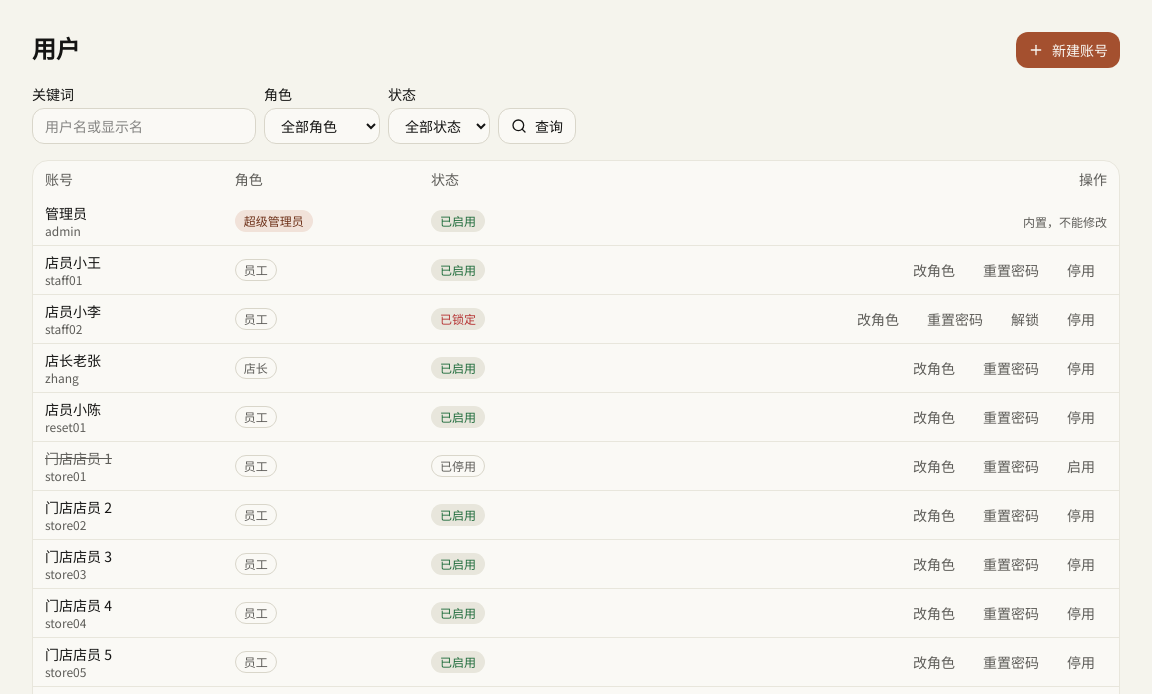
用户管理页 › 在弹窗里重置密码；锁定的账号可以解锁
The image size is (1152, 694).
Click the button with aria-label "重置密码 店员小王": (1011, 270) [971,252,1051,288]
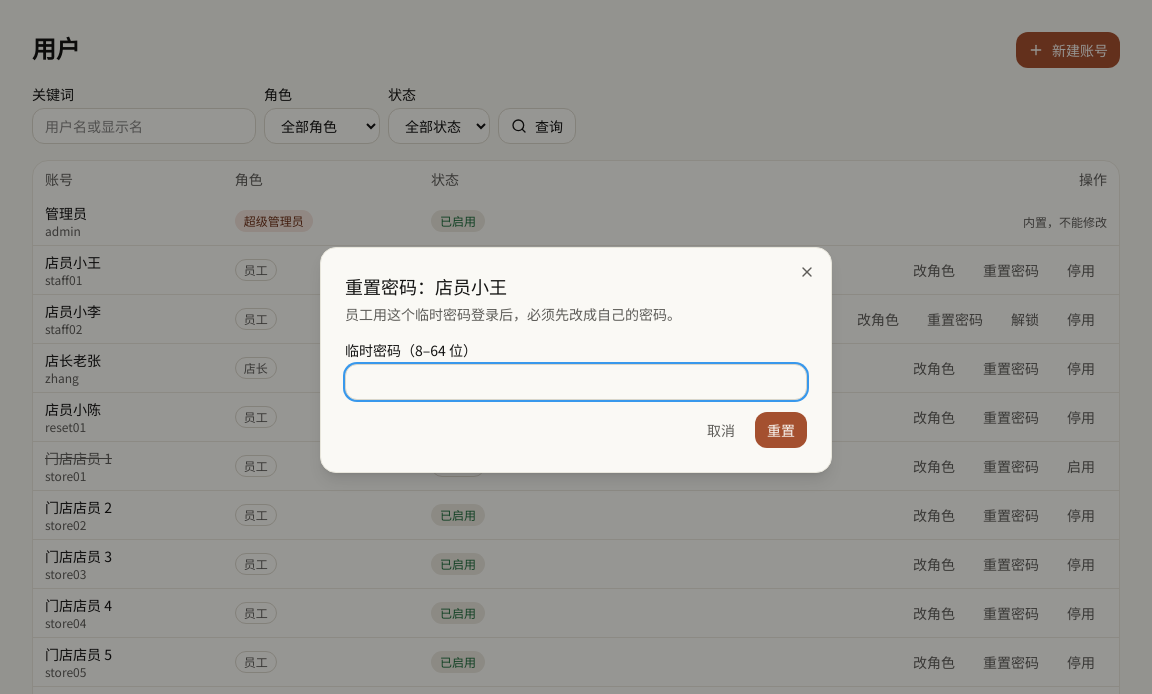
In the password field labelled "临时密码（8–64 位）": (576, 382) [345,364,807,400], type "temp-pass-1"
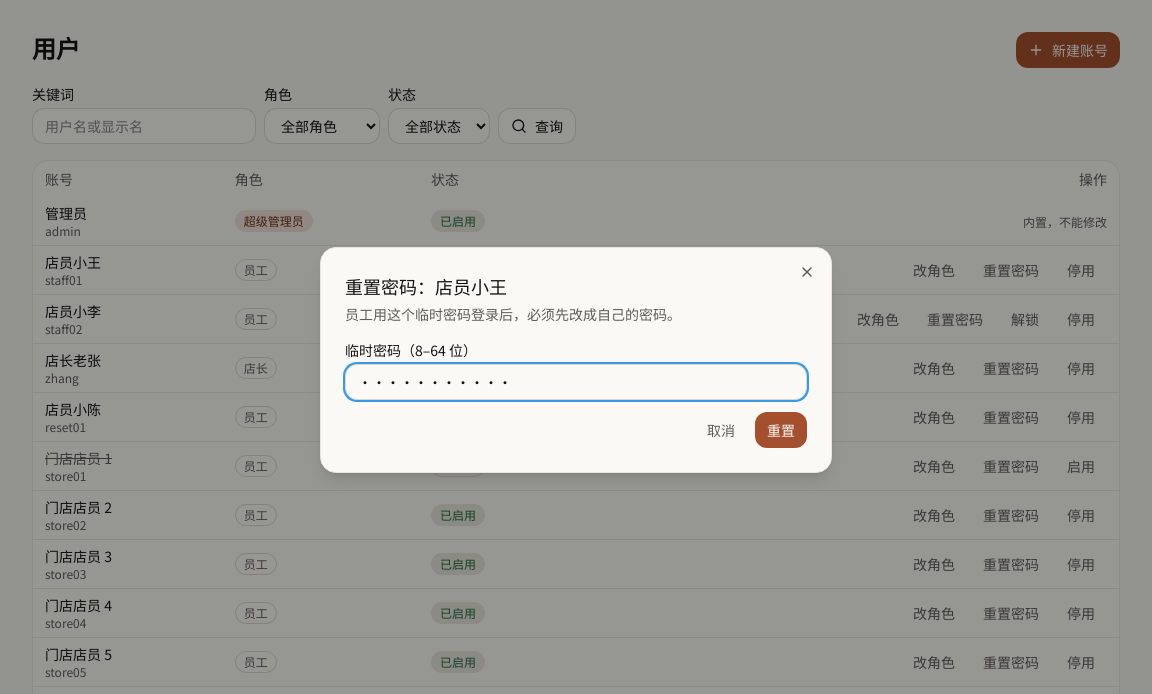
Click the button "重置": (781, 430) [755,412,807,448]
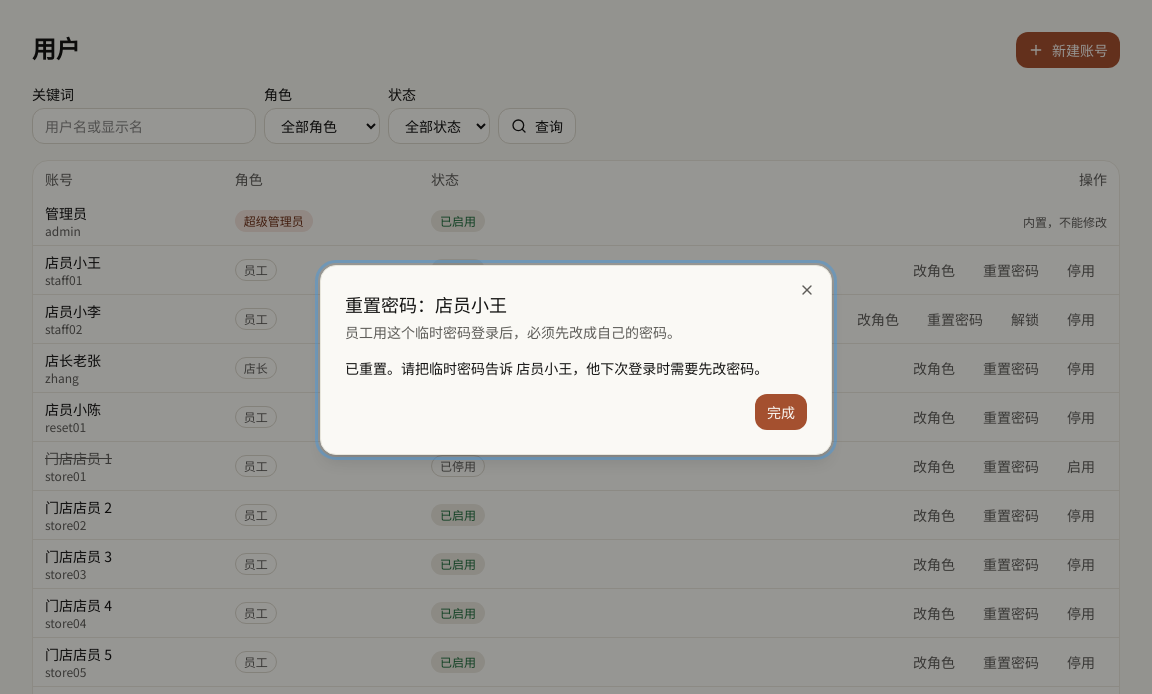
Expected: the text "已重置。请把临时密码告诉 店员小王，他下次登录时需要先改密码。" is shown, [345,358,807,378]
Click the button "完成": (781, 412) [755,394,807,430]
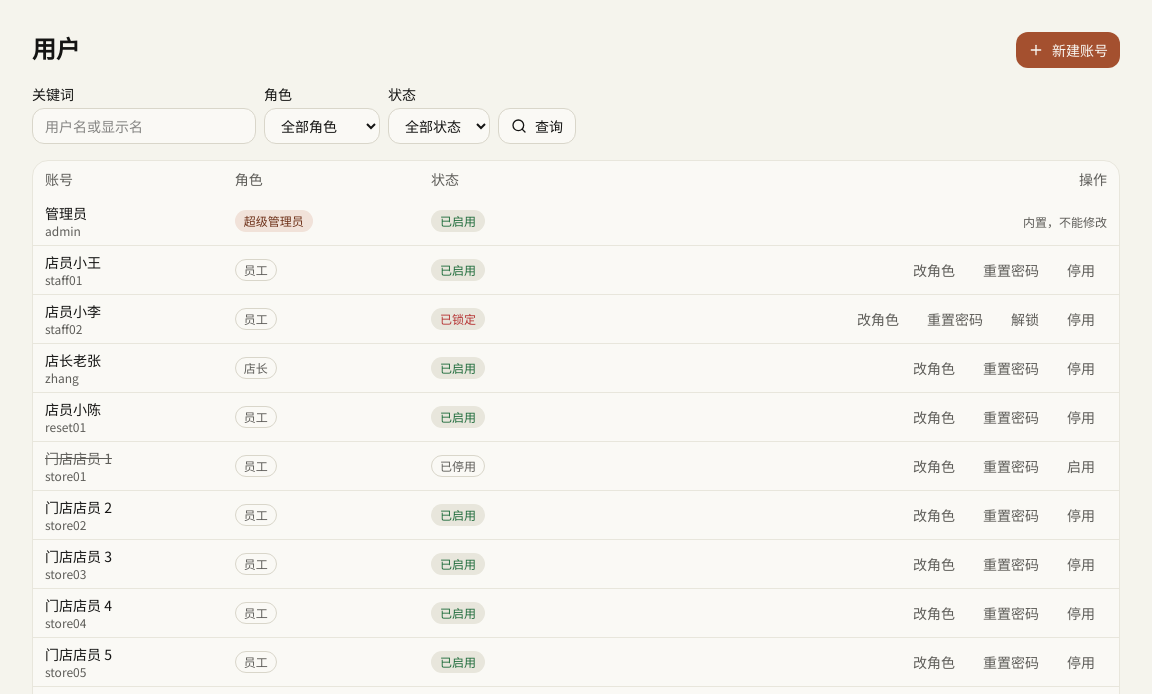
Click the button with aria-label "解锁 店员小李": (1025, 319) [999,301,1051,337]
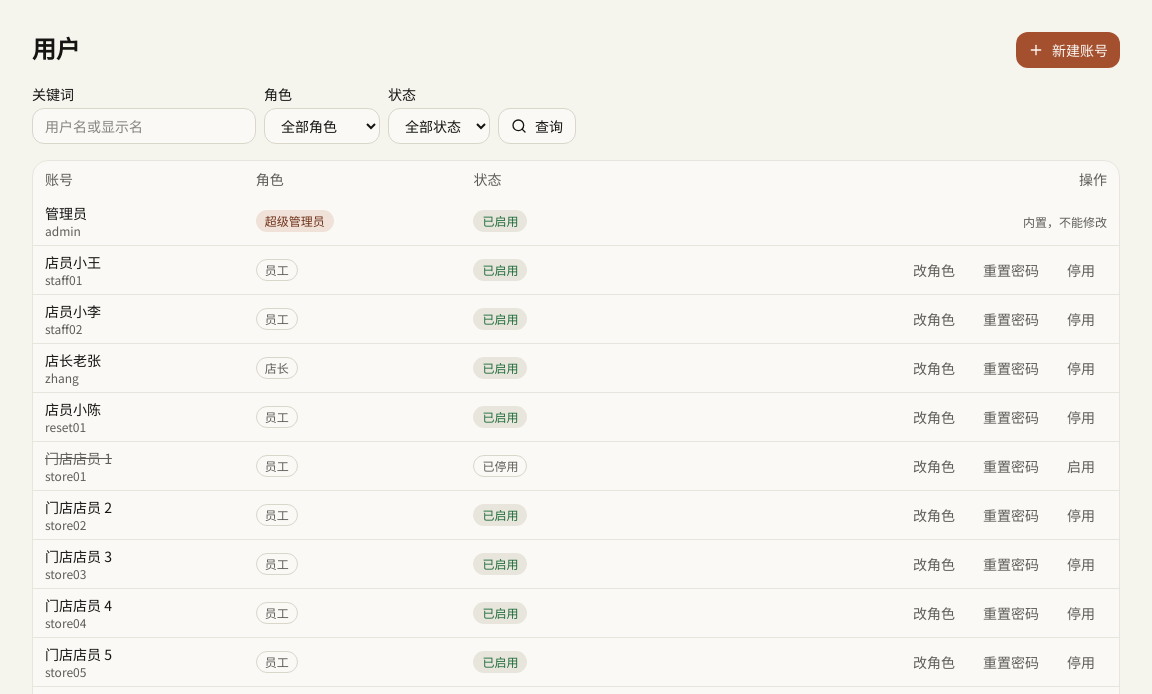
Expected: the text "已启用" in the row of "店员小李" is shown, [482,310,518,327]
